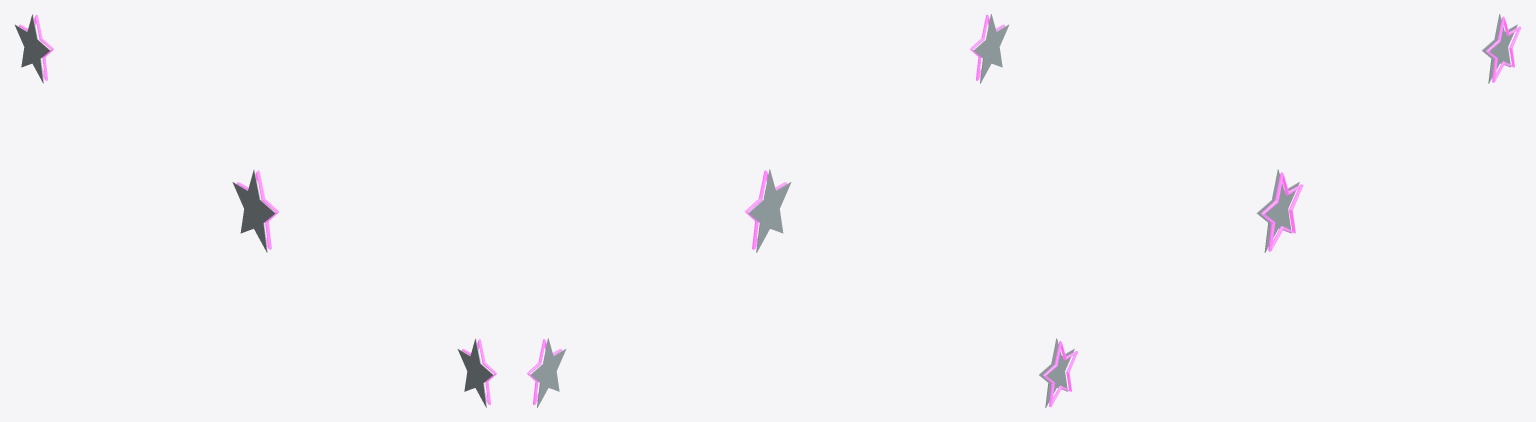
The picture shows the model from 3 angles, left to right: view 1: azimuth 30°, elevation 25°; view 2: azimuth 150°, elevation 25°; view 3: azimuth 330°, elevation 25°; orthographic projection.
Parts seen in each view (by area): view 1: star_0_backer, star_1_backer, star_2_backer; view 2: star_0_backer, star_2_backer, star_1_backer; view 3: star_0_backer, star_0_tube, star_1_backer, star_2_backer, star_1_tube, star_2_tube.
Boxes of the visible parts, <box> form: star_0_backer: <box>232,169,275,252</box>; star_1_backer: <box>15,14,50,83</box>; star_2_backer: <box>457,338,493,407</box>; star_0_backer: <box>748,169,791,252</box>; star_2_backer: <box>973,14,1008,83</box>; star_1_backer: <box>530,338,566,407</box>; star_0_backer: <box>1256,169,1299,252</box>; star_0_tube: <box>1261,172,1303,251</box>; star_1_backer: <box>1482,14,1517,83</box>; star_2_backer: <box>1039,338,1074,407</box>; star_1_tube: <box>1486,16,1521,82</box>; star_2_tube: <box>1043,341,1078,406</box>.
Size of the model in its own units: 0.0394 by 0.4776 by 5.62.
